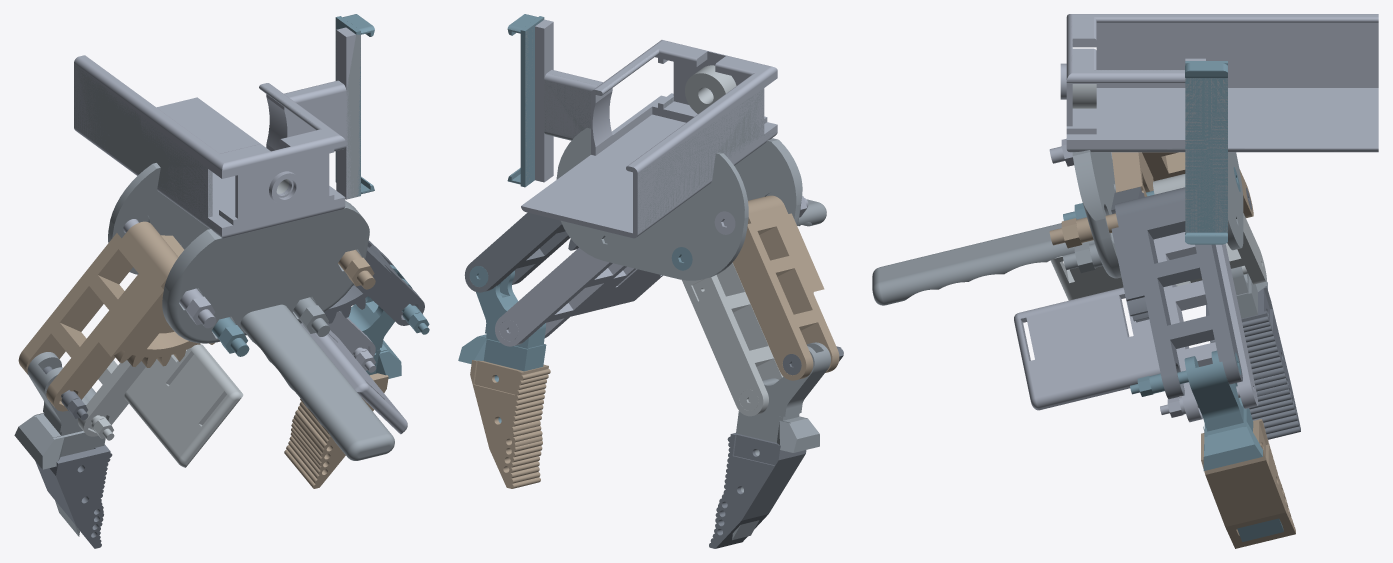
File: flexiv-assembled.glb
3 views of the same model, side by side, from view 1: azimuth 30°, elevation 25°; view 2: azimuth 150°, elevation 25°; view 3: azimuth 270°, elevation 25° (orthographic). The views are drawn at different scales.
Visible parts, largest first — view 1: moving-handle, handheld-housing, left-drive, left-inner-link, left-carrier, right-fingertip-pad, right-inner-link, left-fingertip-pad, right-drive, right-carrier, tracker-bracket, pivot-p01 (+5 smaller); view 2: handheld-housing, moving-handle, left-drive, left-inner-link, left-fingertip-pad, right-inner-link, right-fingertip-pad, left-carrier, right-drive, right-carrier, tracker-bracket, camera-support (+1 smaller); view 3: handheld-housing, right-inner-link, moving-handle, right-drive, tracker-bracket, right-carrier, left-fingertip-pad, right-fingertip-pad, left-inner-link, left-drive, pivot-p04, left-carrier (+3 smaller).
Boxes of the visible parts, x1,y1,x2,y2 form: moving-handle: (74,17,394,460); handheld-housing: (74,27,355,238); left-drive: (18,221,214,411); left-inner-link: (78,344,243,467); left-carrier: (14,352,105,536); right-fingertip-pad: (35,444,112,548); right-inner-link: (301,311,407,434); left-fingertip-pad: (284,373,388,488); right-drive: (300,240,424,325); right-carrier: (348,264,412,378); tracker-bracket: (335,14,374,196); pivot-p01: (123,219,216,328); handheld-housing: (521,19,777,238); moving-handle: (513,18,826,280); left-drive: (732,195,839,380); left-inner-link: (682,262,783,416); left-fingertip-pad: (470,360,550,488); right-inner-link: (495,248,662,346); right-fingertip-pad: (709,433,806,548); left-carrier: (732,342,830,540); right-drive: (464,212,578,292); right-carrier: (458,270,546,423); tracker-bracket: (507,14,544,187); camera-support: (685,65,736,113); handheld-housing: (1060,14,1378,152); right-inner-link: (1014,232,1258,422); moving-handle: (872,26,1378,305); right-drive: (1111,187,1242,399); tracker-bracket: (1185,61,1227,244); right-carrier: (1184,350,1283,541); left-fingertip-pad: (1201,419,1295,548); right-fingertip-pad: (1206,286,1300,439); left-inner-link: (1050,174,1266,300); left-drive: (1111,152,1253,218); pivot-p04: (1049,213,1118,248); left-carrier: (1231,266,1267,318).
Bounding box in the file's own units: 0.1483 × 0.1854 × 0.1688.
